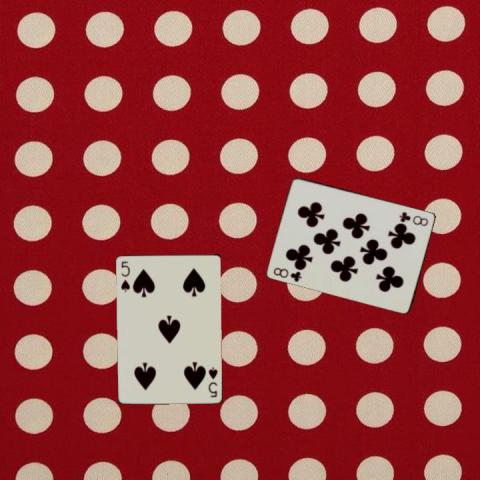5s: (118, 258, 132, 293), (205, 364, 219, 398)
8c: (271, 264, 303, 283), (397, 209, 430, 227)
